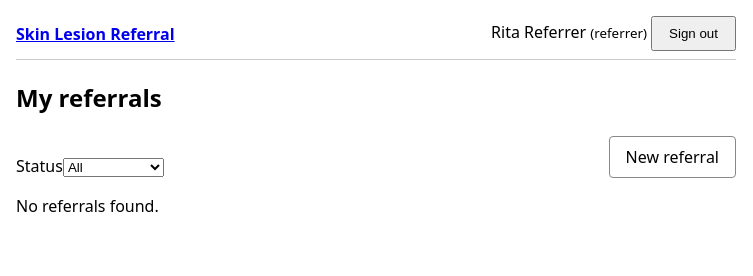
Test: App › signs out and redirects to the login page
This screenshot has width=753, height=276.
Click the button "Sign out": (694, 34) [651,16,736,51]
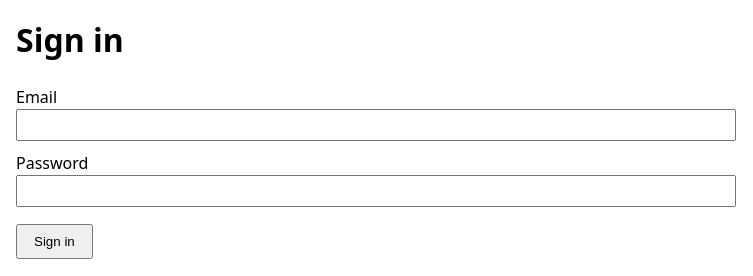
Result: the heading "Sign in" is shown at [16,18,124,61]
